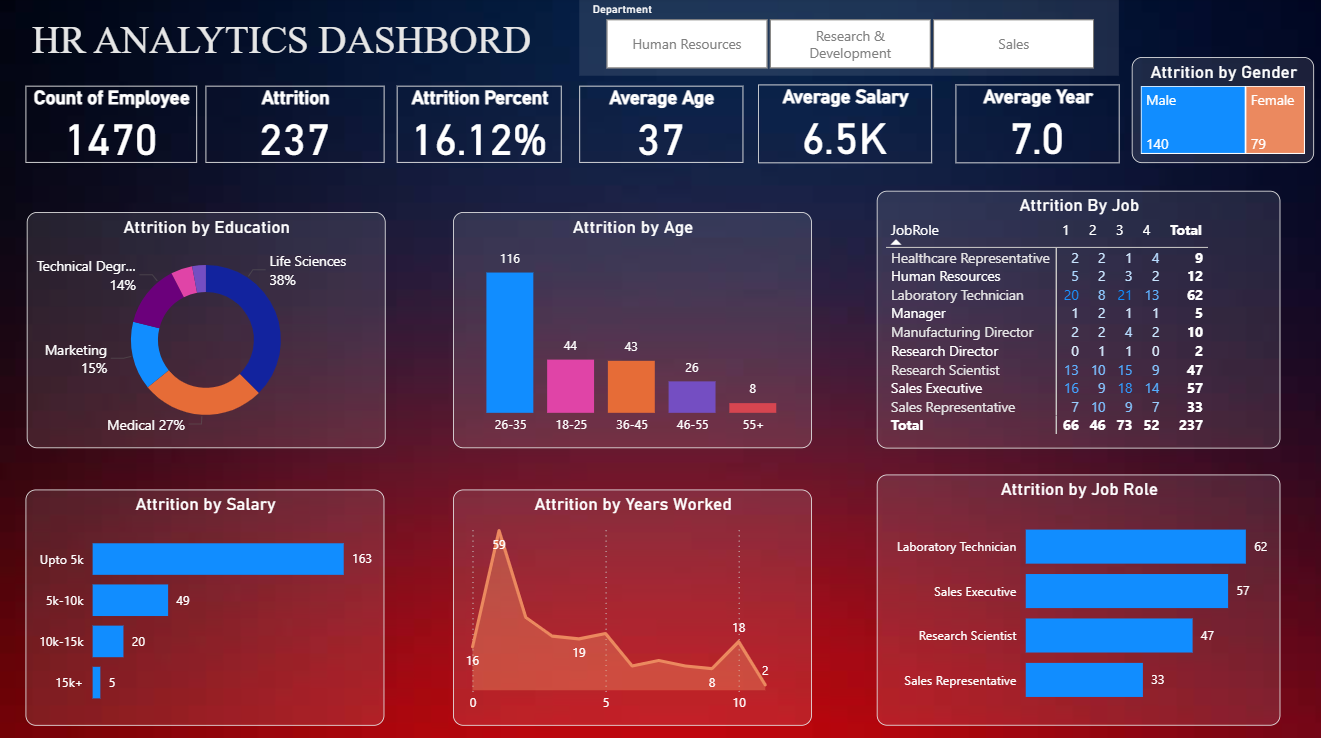

This screenshot's page, from the dashboard's own definition file:
{"tool":"powerbi","page":{"name":"Page 1","canvas":[1280,720],"ordinal":0},"visuals":[{"type":"card","title":"Count of Employee","fields":{"Values":["CountNonNull(HR_Analytics.EmpID)"]},"box":[26.5,85.7,165.3,74.8],"z":0},{"type":"card","title":"Attrition","fields":{"Values":["Sum(HR_Analytics.AttritionCount)"]},"box":[200.3,85.7,172.5,74.8],"z":1000},{"type":"card","title":"Attrition Percent","fields":{"Values":["HR_Analytics.AttritionRate"]},"box":[384.9,85.7,159.3,74.8],"z":2000},{"type":"card","title":"Average Age","fields":{"Values":["Avg(HR_Analytics.Age)"]},"box":[561,85.7,158,74.8],"z":3000},{"type":"card","title":"Average Salary","fields":{"Values":["Avg(HR_Analytics.MonthlyIncome)"]},"box":[733.5,84.5,167.7,76],"z":4000},{"type":"card","title":"Average Year","fields":{"Values":["Avg(HR_Analytics.YearsAtCompany)"]},"box":[924.1,84.5,158,76],"z":5000},{"type":"donutChart","title":"Attrition by Education","fields":{"Category":["HR_Analytics.EducationField"],"Y":["Sum(HR_Analytics.AttritionCount)"]},"box":[27.7,207.5,346.2,228],"z":6000},{"type":"columnChart","title":"Attrition by Age","fields":{"Category":["HR_Analytics.AgeGroup"],"Y":["Sum(HR_Analytics.AttritionCount)"]},"box":[439.1,207.5,346.2,228],"z":7000},{"type":"pivotTable","title":"Attrition By Job","fields":{"Rows":["HR_Analytics.JobRole"],"Columns":["HR_Analytics.JobSatisfaction"],"Values":["Sum(HR_Analytics.AttritionCount)"]},"box":[848.1,187,389.7,248.5],"z":8000},{"type":"barChart","title":"Attrition by Salary","fields":{"Category":["HR_Analytics.SalarySlab"],"Y":["Sum(HR_Analytics.AttritionCount)"]},"box":[26.5,475.3,346.2,228],"z":9000},{"type":"barChart","title":"Attrition by Job Role","fields":{"Category":["HR_Analytics.JobRole"],"Y":["Sum(HR_Analytics.AttritionCount)"]},"box":[848.1,460.9,389.7,242.5],"z":10000},{"type":"areaChart","title":"Attrition by Years Worked","fields":{"Category":["HR_Analytics.YearsAtCompany"],"Y":["Sum(HR_Analytics.AttritionCount)"]},"box":[439.1,475.3,346.2,228],"z":11000},{"type":"treemap","title":"Attrition by Gender","fields":{"Group":["HR_Analytics.Gender"],"Values":["Sum(HR_Analytics.AttritionCount)"]},"box":[1094.2,57.9,176.1,102.5],"z":12000},{"type":"slicer","fields":{"Values":["HR_Analytics.Department"]},"box":[561,0,521.2,76],"z":13000},{"type":"textbox","box":[27.7,14.5,492.2,61.5],"z":14000}]}

Visuals, with their boxes in screenshot pixels (x1, y1, x2, y2), scaled from the page's 1280x720 canvas onto the 1321x738 screenshot:
"Count of Employee" card: locate(27, 88, 198, 165)
"Attrition" card: locate(207, 88, 385, 165)
"Attrition Percent" card: locate(397, 88, 562, 165)
"Average Age" card: locate(579, 88, 742, 165)
"Average Salary" card: locate(757, 87, 930, 165)
"Average Year" card: locate(954, 87, 1117, 165)
"Attrition by Education" donutChart: locate(29, 213, 386, 446)
"Attrition by Age" columnChart: locate(453, 213, 810, 446)
"Attrition By Job" pivotTable: locate(875, 192, 1277, 446)
"Attrition by Salary" barChart: locate(27, 487, 385, 721)
"Attrition by Job Role" barChart: locate(875, 472, 1277, 721)
"Attrition by Years Worked" areaChart: locate(453, 487, 810, 721)
"Attrition by Gender" treemap: locate(1129, 59, 1311, 164)
slicer - HR_Analytics.Department: locate(579, 0, 1117, 78)
textbox: locate(29, 15, 537, 78)
